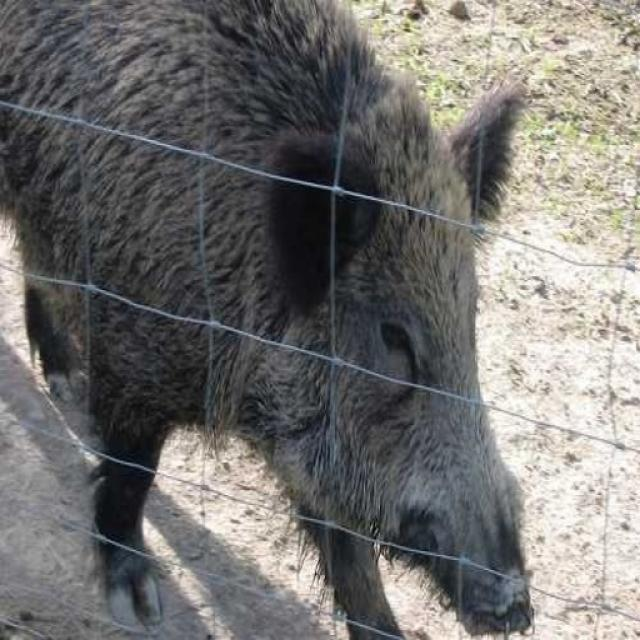pig: (4, 4, 531, 640)
